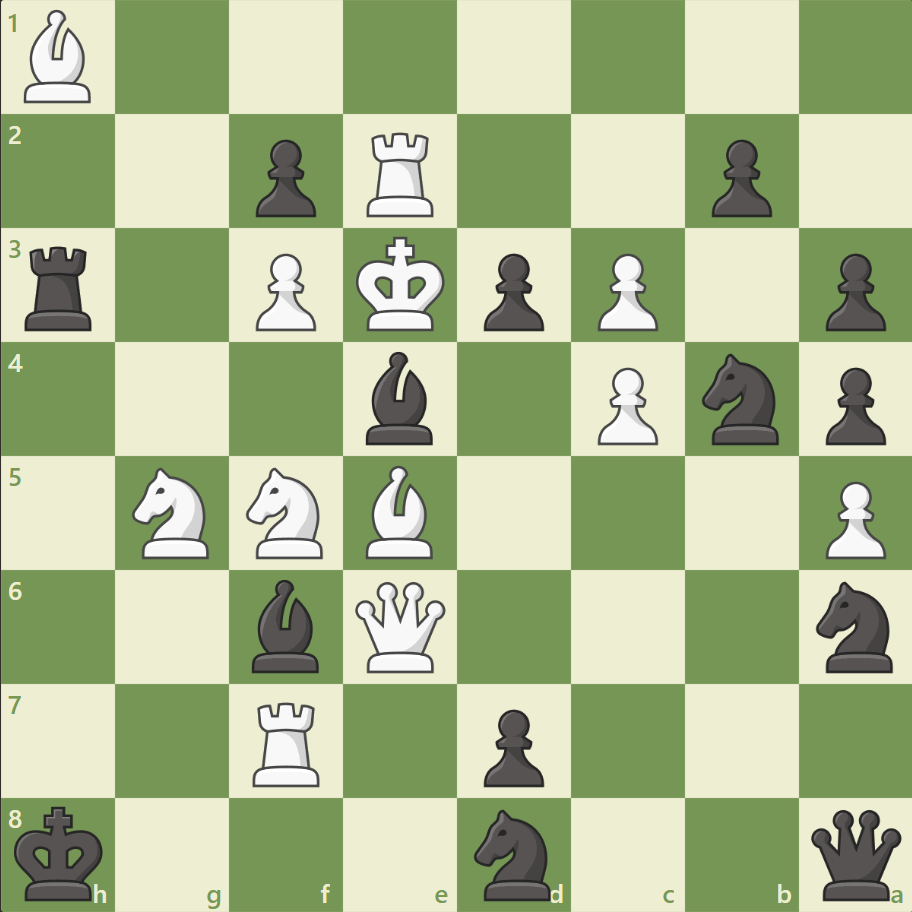B: (358, 460, 442, 563), (17, 6, 101, 109)
K: (351, 231, 451, 339)
N: (124, 461, 222, 564), (238, 461, 335, 564)
P: (247, 246, 322, 337), (815, 473, 889, 564), (588, 359, 662, 450), (588, 246, 662, 337)
Q: (351, 576, 450, 676)
R: (246, 693, 329, 790), (360, 125, 442, 222)
b: (244, 574, 328, 676), (358, 347, 442, 449)
k: (11, 798, 111, 906)
n: (465, 802, 562, 904), (806, 575, 903, 677), (692, 348, 789, 450)
p: (474, 700, 549, 791), (474, 246, 549, 337), (701, 132, 776, 223), (247, 132, 322, 223), (815, 359, 889, 450), (815, 246, 889, 337)
q: (805, 804, 904, 903)
r: (19, 239, 102, 336)
